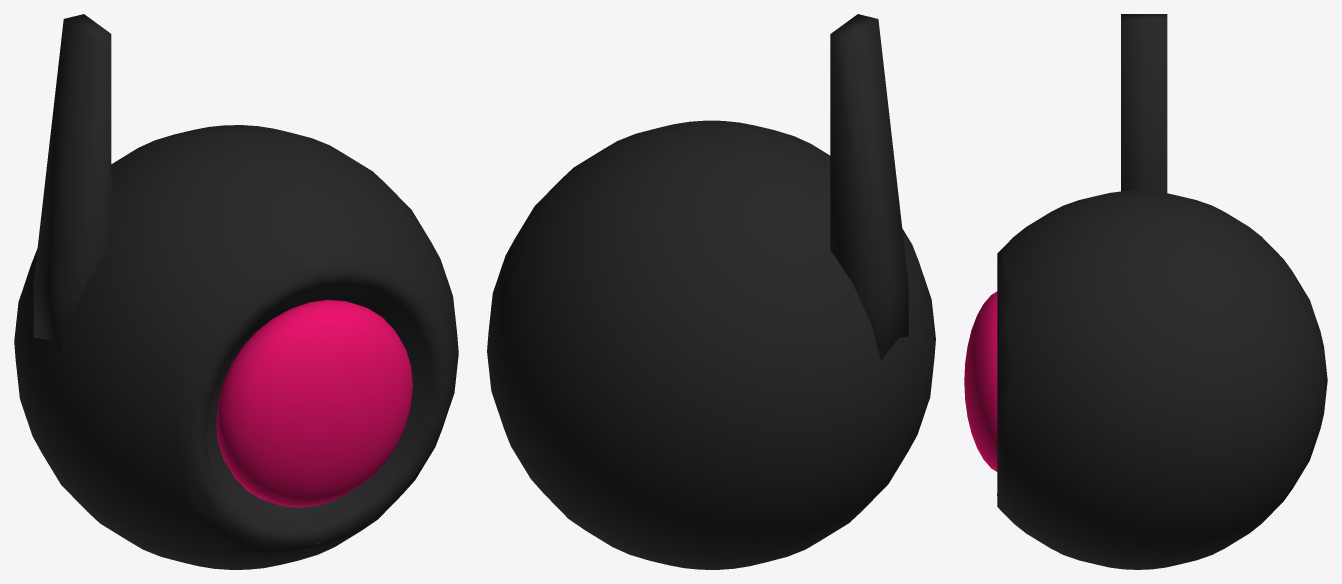
File: probe.glb
The picture shows the model from 3 angles, left to right: view 1: azimuth 30°, elevation 25°; view 2: azimuth 150°, elevation 25°; view 3: azimuth 270°, elevation 25°; orthographic projection. The views are drawn at different scales.
Visible parts, largest first — view 1: Sphere, Sphere.001, Cube; view 2: Sphere, Cube; view 3: Sphere, Cube, Sphere.001.
Boxes of the visible parts, box(x1,y1,x2,y2) form: Sphere: box(14, 125, 458, 569); Sphere.001: box(216, 299, 412, 507); Cube: box(33, 14, 111, 352); Sphere: box(487, 120, 935, 569); Cube: box(830, 14, 908, 360); Sphere: box(997, 190, 1327, 569); Cube: box(1121, 14, 1167, 192); Sphere.001: box(964, 291, 997, 471).
Bounding box in the file's own units: 1.96 × 2.7 × 1.88.
